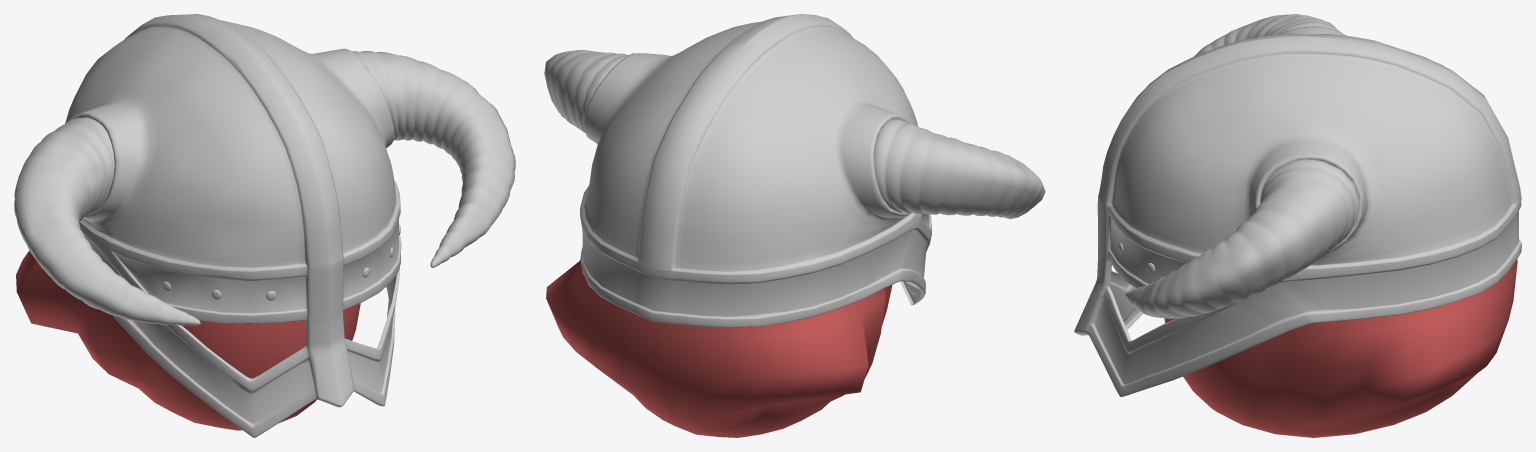
Rendered from helmet.FBX.
3 views of the same model, side by side, from view 1: azimuth 30°, elevation 25°; view 2: azimuth 150°, elevation 25°; view 3: azimuth 270°, elevation 25° (orthographic).
Parts seen in each view (by area): view 1: Object001, Box012; view 2: Object001, Box012; view 3: Object001, Box012.
Part boxes in pixels (left/top/right/bottom): Object001: left=14, top=14, right=515, bottom=437; Box012: left=16, top=250, right=360, bottom=430; Object001: left=544, top=14, right=1045, bottom=327; Box012: left=546, top=260, right=892, bottom=437; Object001: left=1074, top=14, right=1521, bottom=396; Box012: left=1164, top=259, right=1517, bottom=437.
Size of the model in its own units: 340 by 262 by 272.
